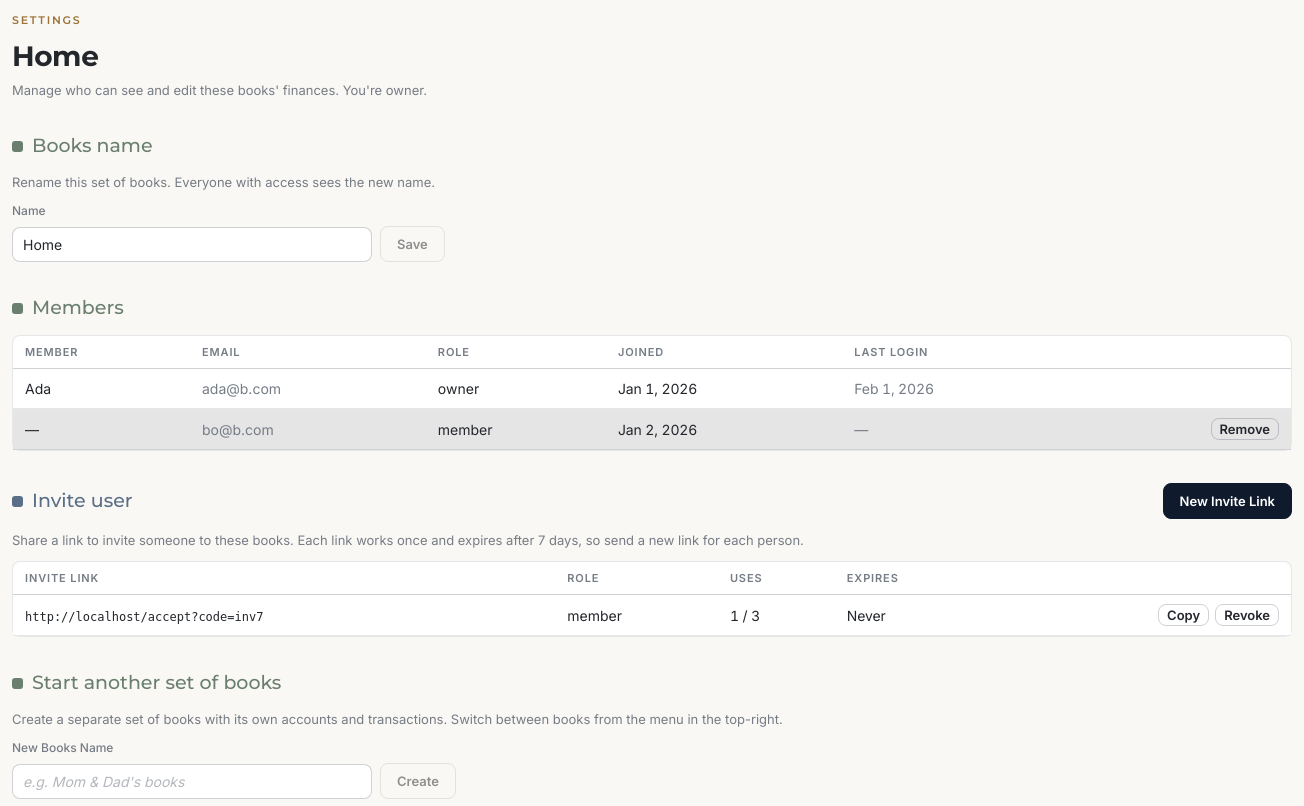
Test: Book page › surfaces a create-books error
Expected: the text "ada@b.com" is shown, left=190, top=368, right=426, bottom=408
Type "Rental" into the field with placeholder "e.g. Mom & Dad's books".
click(192, 781); type("Rental")  # box left=12, top=764, right=372, bottom=798
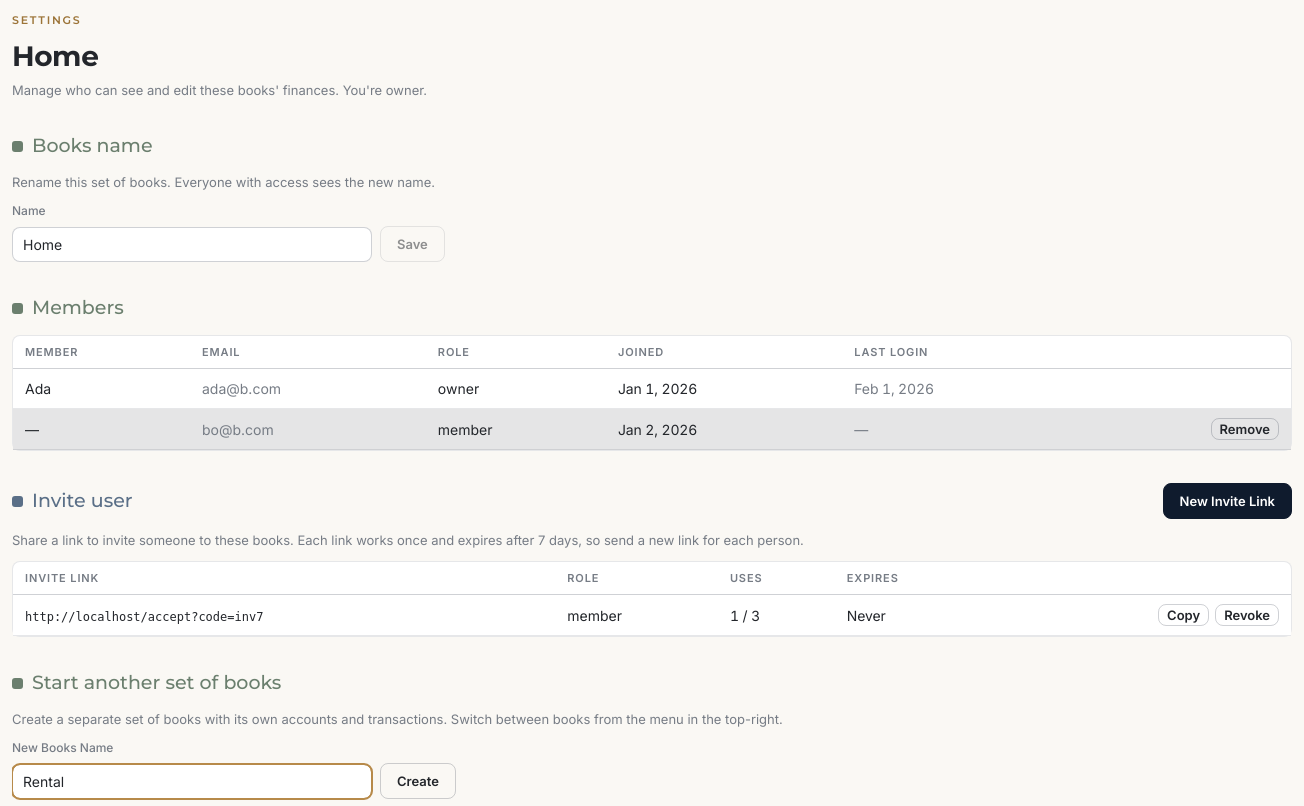
Click the button "Create".
click(418, 781)  # box left=380, top=763, right=456, bottom=799
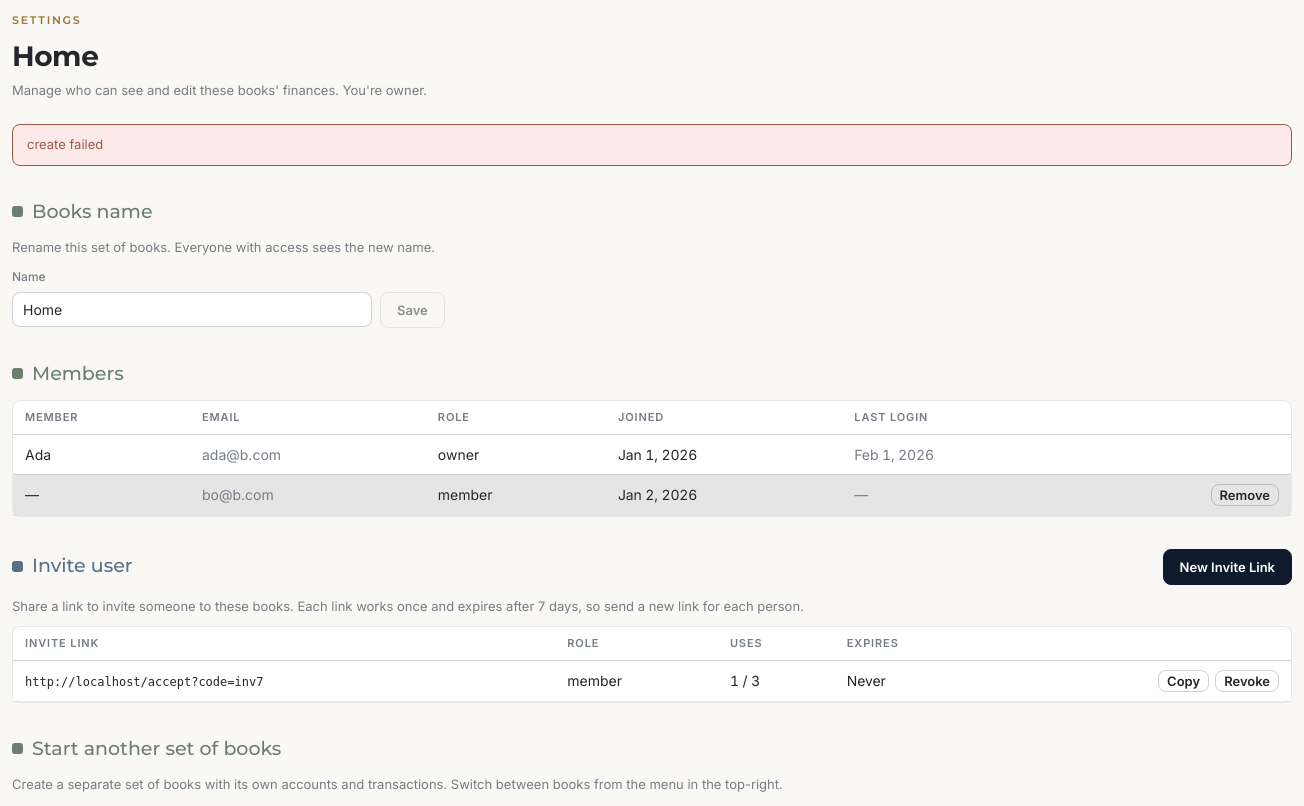
Expected: the text "create failed" is shown, left=12, top=124, right=1292, bottom=166
